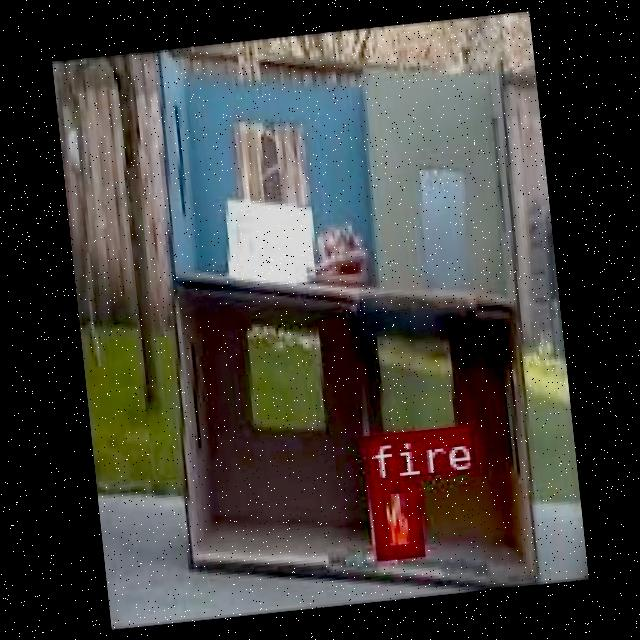fire: (366, 475, 421, 558)
